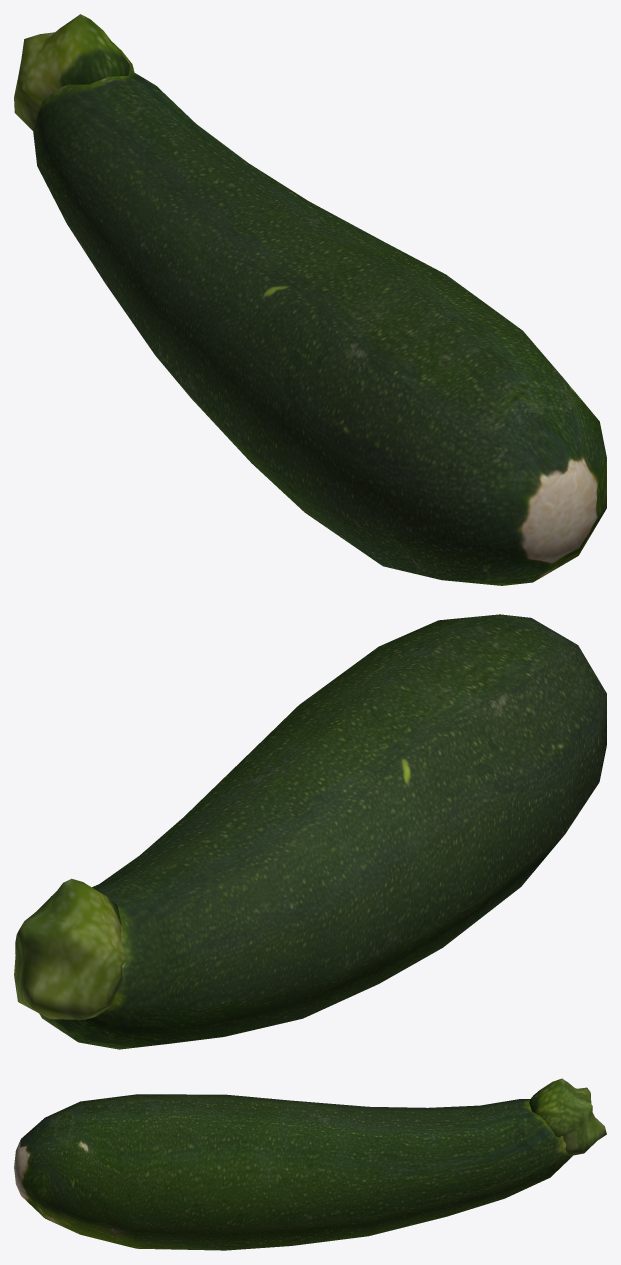
Rendered from zucchini.fbx.
3 renders of one model, top to bottom at view 1: azimuth 30°, elevation 25°; view 2: azimuth 150°, elevation 25°; view 3: azimuth 270°, elevation 25°, orthographic. The views are drawn at different scales.
Visible parts, largest first — view 1: zucchini; view 2: zucchini; view 3: zucchini.
Part boxes in pixels (x1,y1,x2,y2): zucchini: (14, 14, 606, 585); zucchini: (14, 614, 606, 1049); zucchini: (14, 1078, 606, 1250).
Bounding box in the file's own units: 8.11 × 9.83 × 31.82.
Materials: 1 (1 with a texture image).
